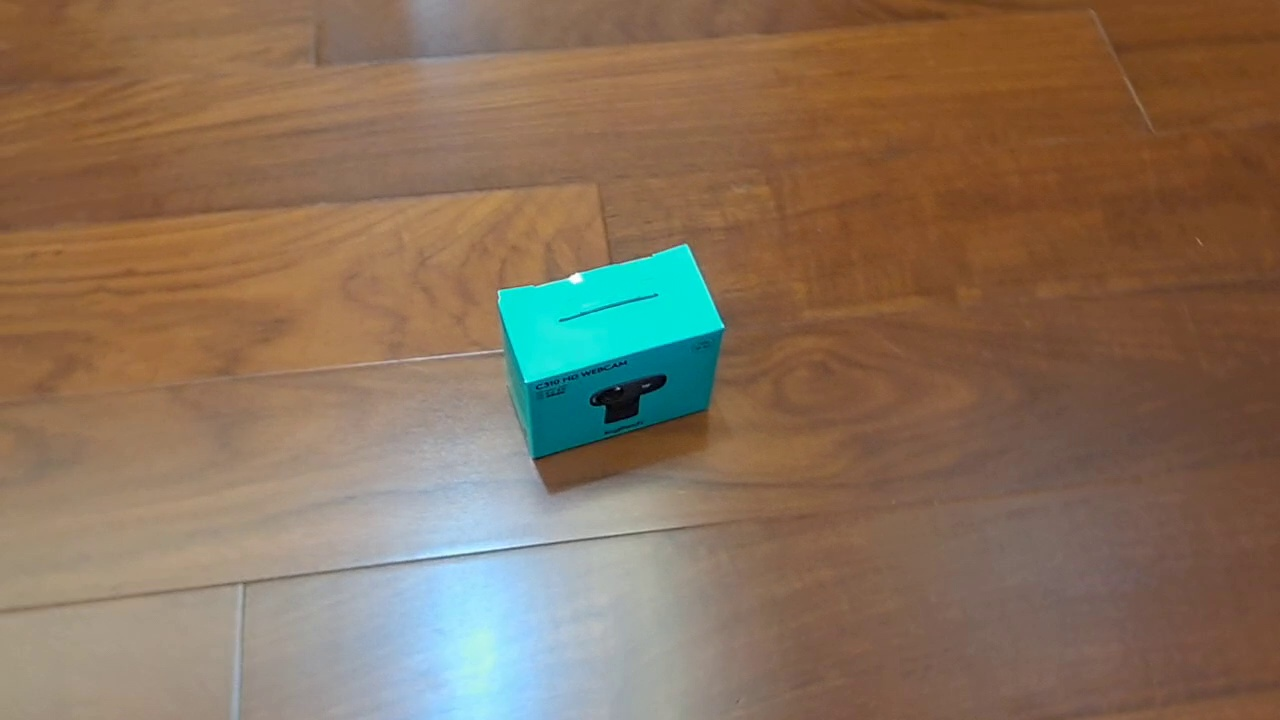webcam: (496, 242, 727, 463)
